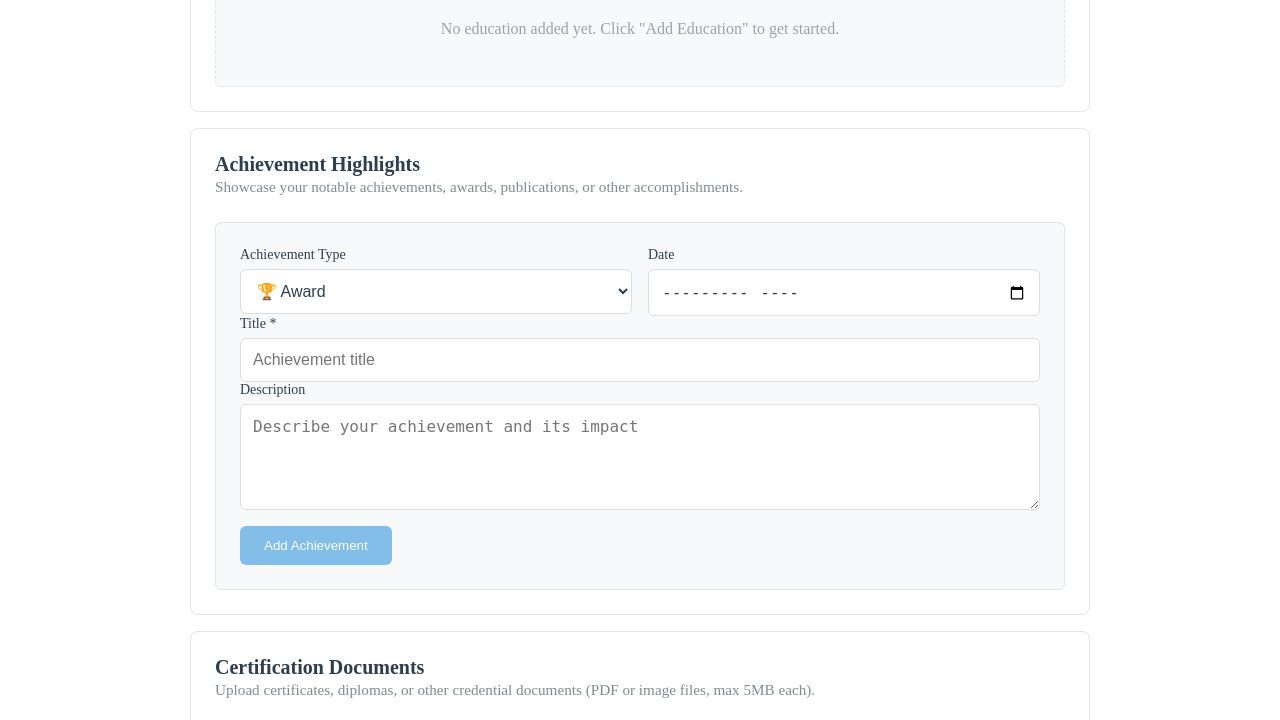
it: ExperienceStep Component › Achievement Management › prevents adding empty achievements
This screenshot has width=1280, height=720.
(page scrolled)
Expected: the button "Add Achievement" is disabled, x1=240 y1=526 x2=392 y2=565
// Add title
Step 1. Type "Test Achievement" into the field with placeholder "Achievement title" → [640, 360], box x1=240 y1=338 x2=1040 y2=382
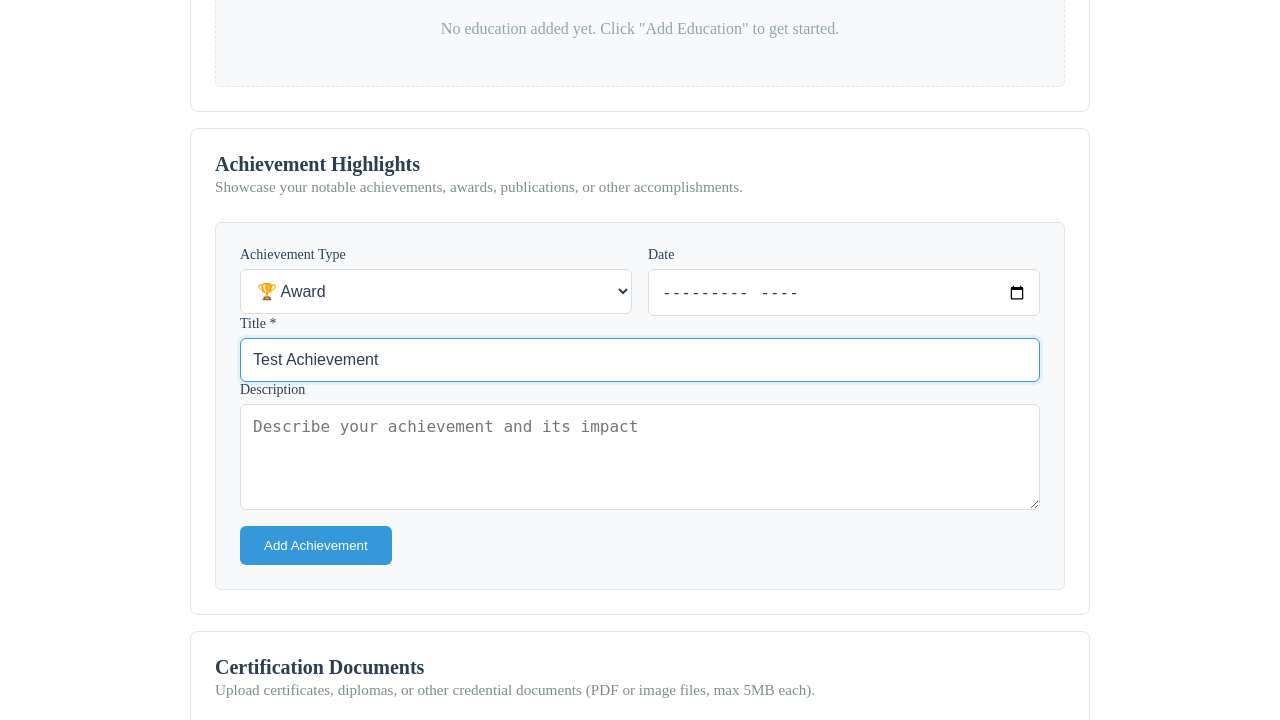
Expected: the button "Add Achievement" is enabled, x1=240 y1=526 x2=392 y2=565
